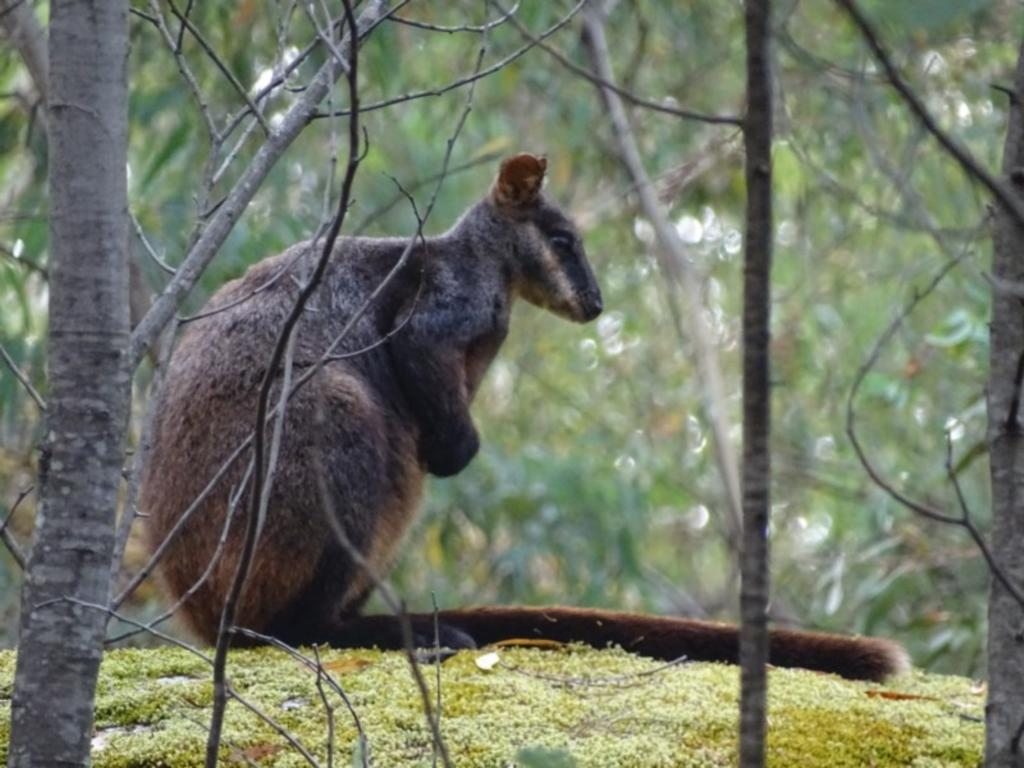Brush-tailed rock-wallaby: (144, 151, 914, 690)
